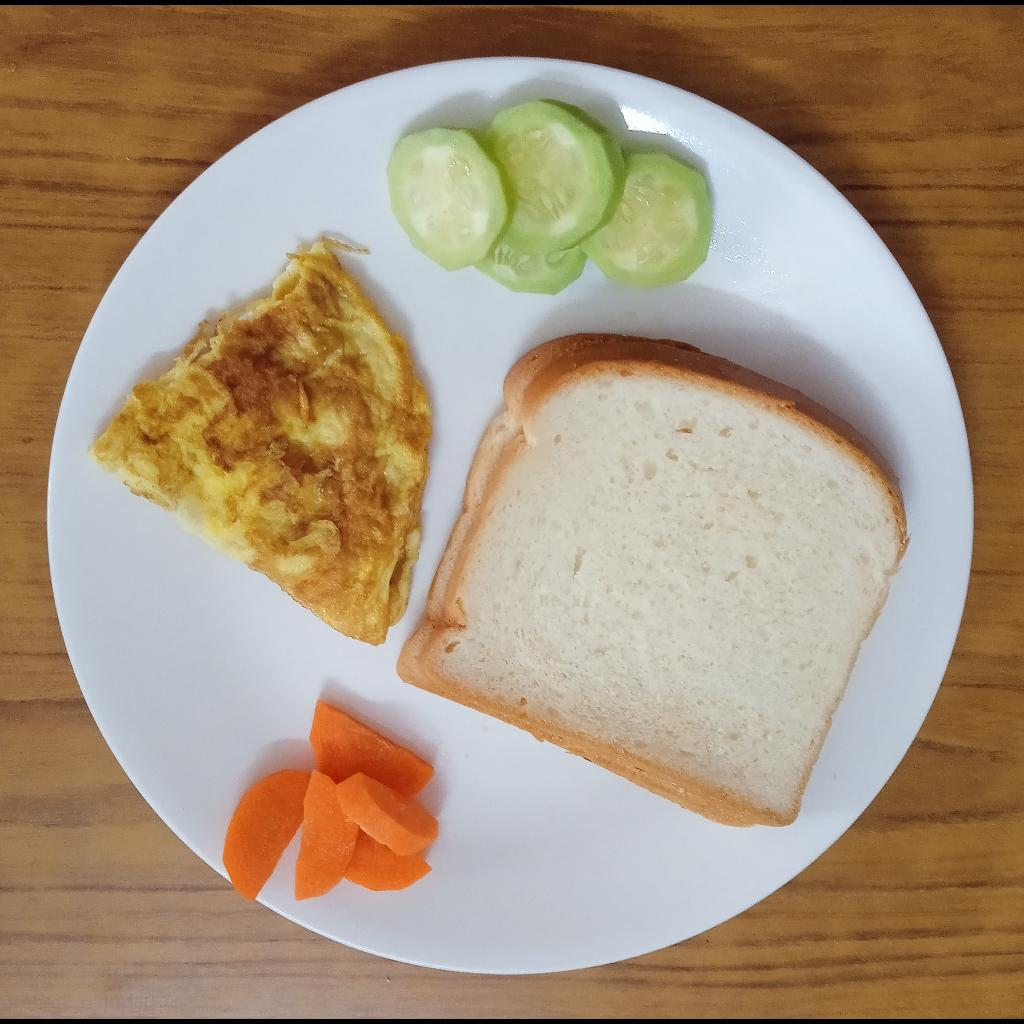bread: (395, 331, 909, 829)
carrot: (215, 700, 440, 907)
cucumber: (383, 98, 720, 299)
egg-poached: (89, 239, 437, 647)
